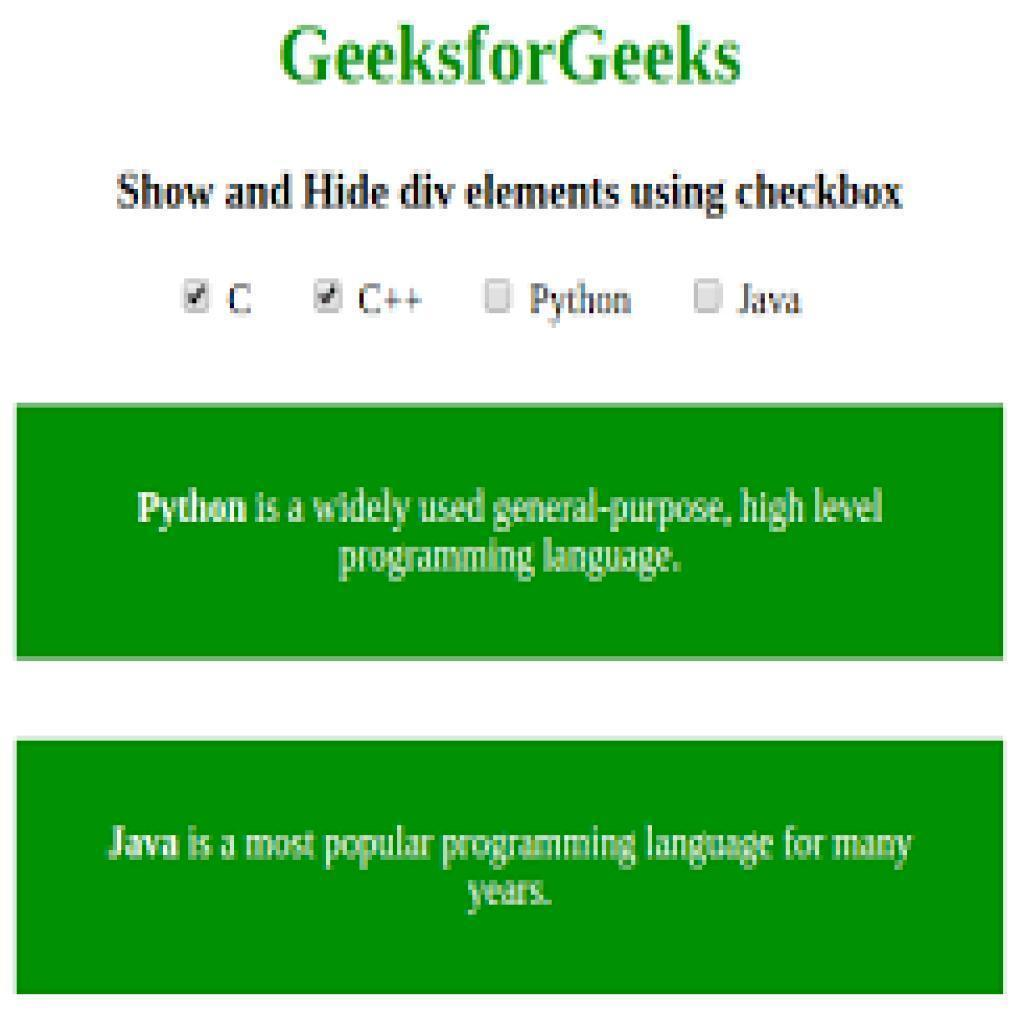checkbox: (481, 274, 515, 320), (691, 277, 728, 318), (310, 276, 343, 319), (180, 275, 212, 318)
